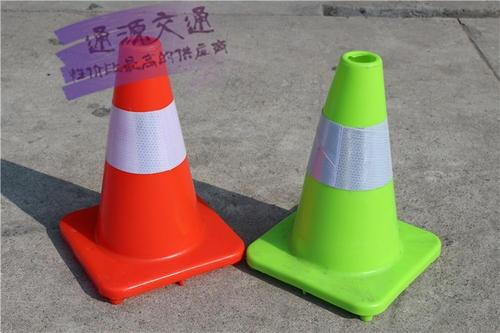cone_barrel: (84, 22, 216, 269), (281, 50, 422, 275)
